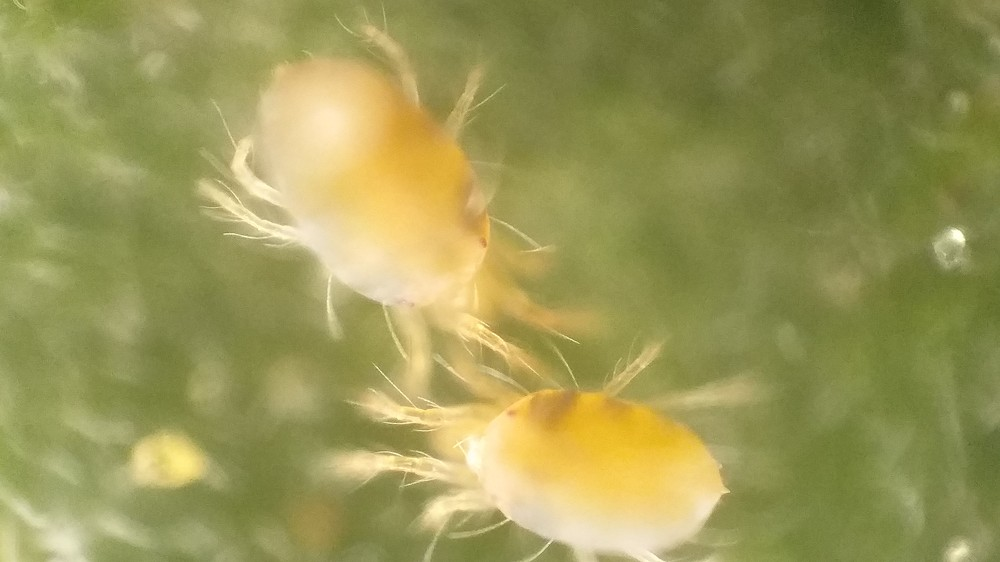Aracnido Rojo: (172, 29, 606, 379), (350, 358, 765, 562)
